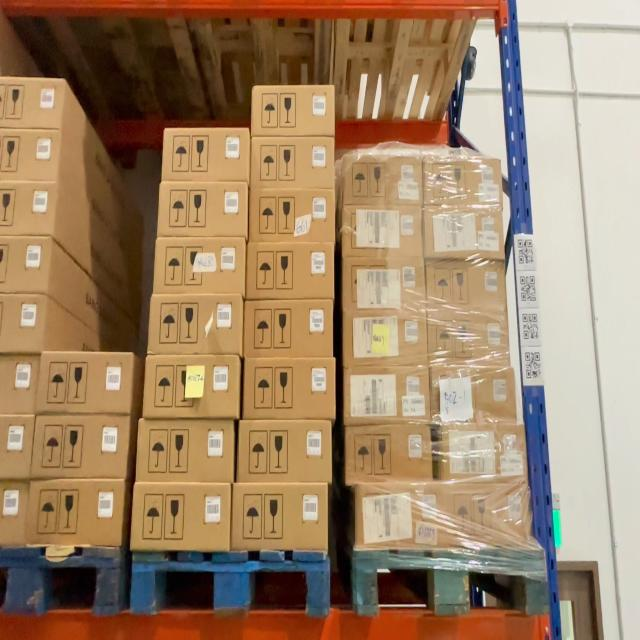box: (230, 481, 330, 550), (130, 482, 232, 549), (26, 481, 125, 548), (143, 354, 242, 417), (136, 419, 234, 482), (236, 419, 333, 482), (354, 482, 446, 548), (38, 352, 134, 415), (31, 417, 130, 478), (242, 356, 337, 419), (443, 480, 531, 547), (147, 295, 243, 355), (243, 299, 334, 359), (152, 237, 247, 294), (343, 422, 433, 482), (429, 364, 517, 423), (156, 181, 247, 237), (441, 423, 528, 480), (342, 365, 429, 422), (246, 245, 335, 300), (248, 188, 336, 243), (161, 128, 250, 182), (342, 257, 427, 312), (427, 310, 511, 365), (342, 312, 427, 366), (250, 83, 335, 135), (249, 137, 335, 188), (424, 208, 505, 262), (341, 206, 423, 257), (426, 260, 506, 312), (423, 157, 503, 207)
